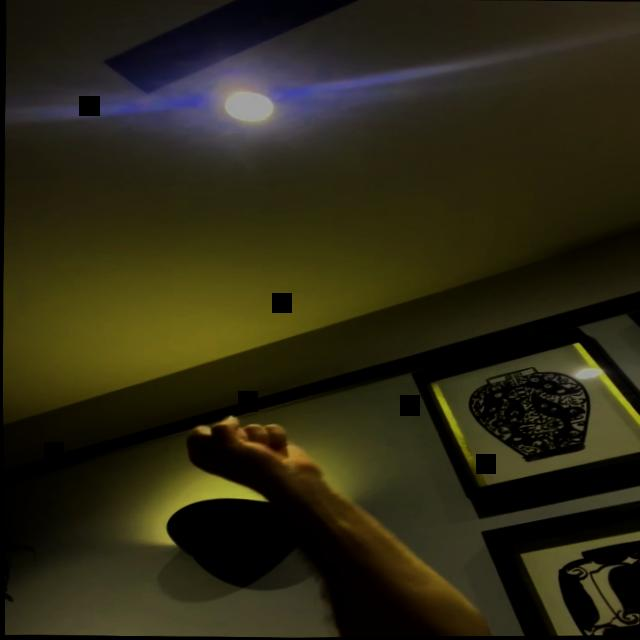Rock: (182, 415, 324, 488)
